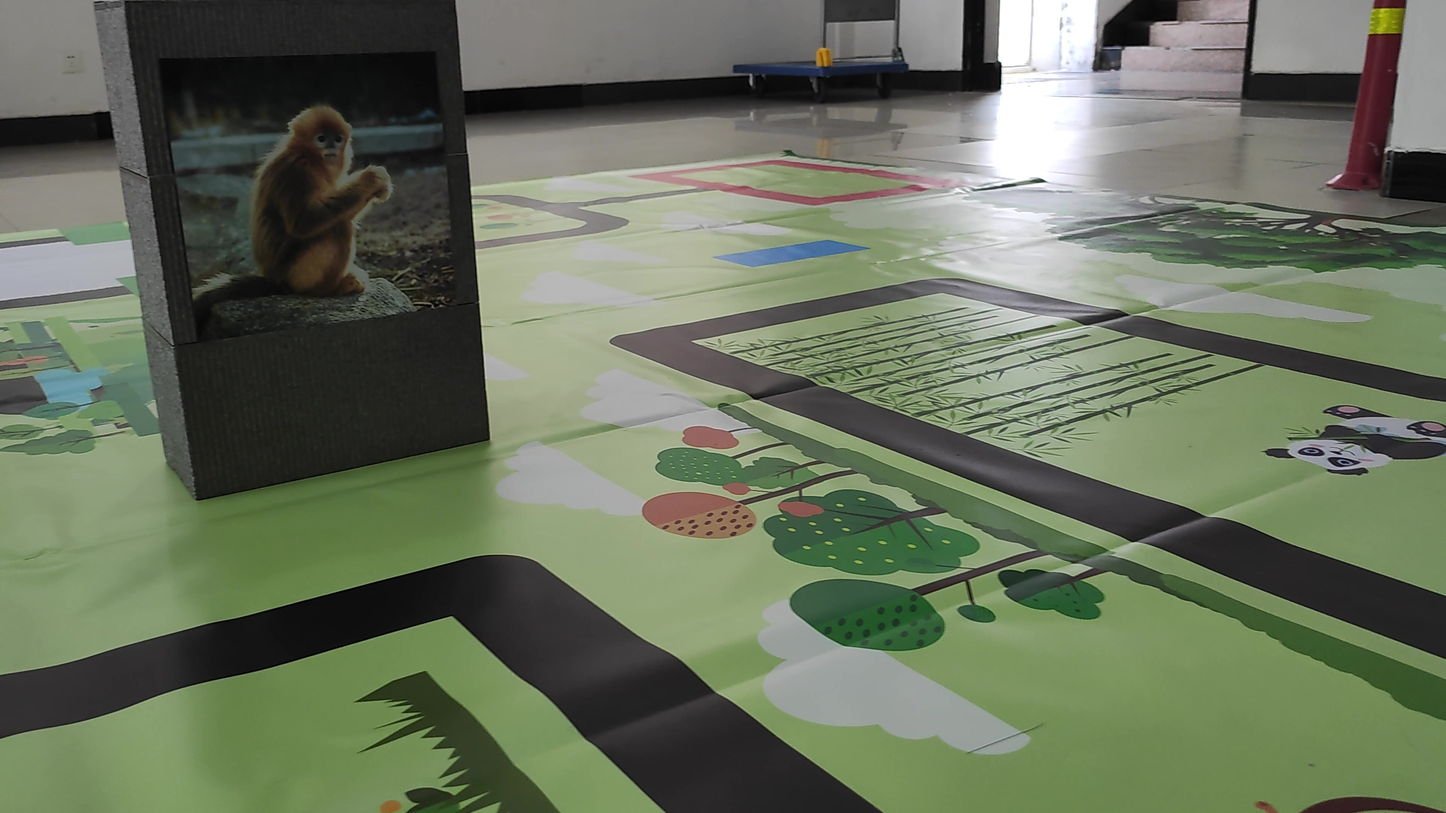monkey: (184, 80, 409, 326)
